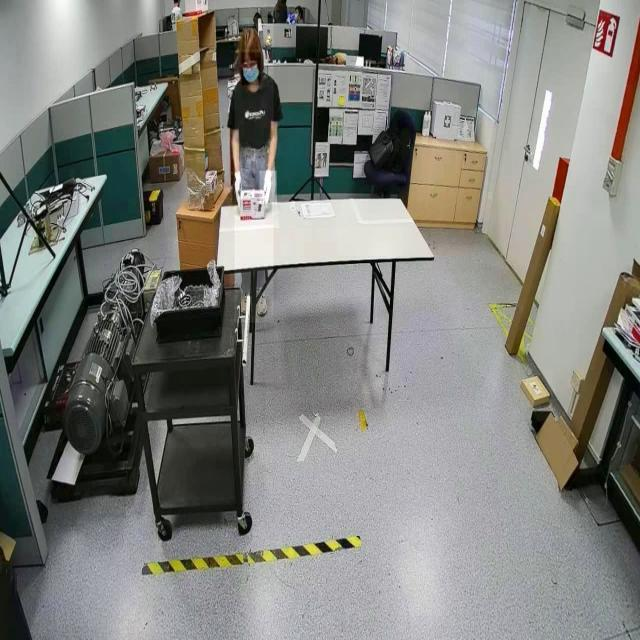face_mask: (241, 52, 261, 86), (259, 170, 277, 204), (230, 170, 244, 204)
head_nohelmet: (238, 26, 260, 50)
person: (234, 18, 274, 324)
